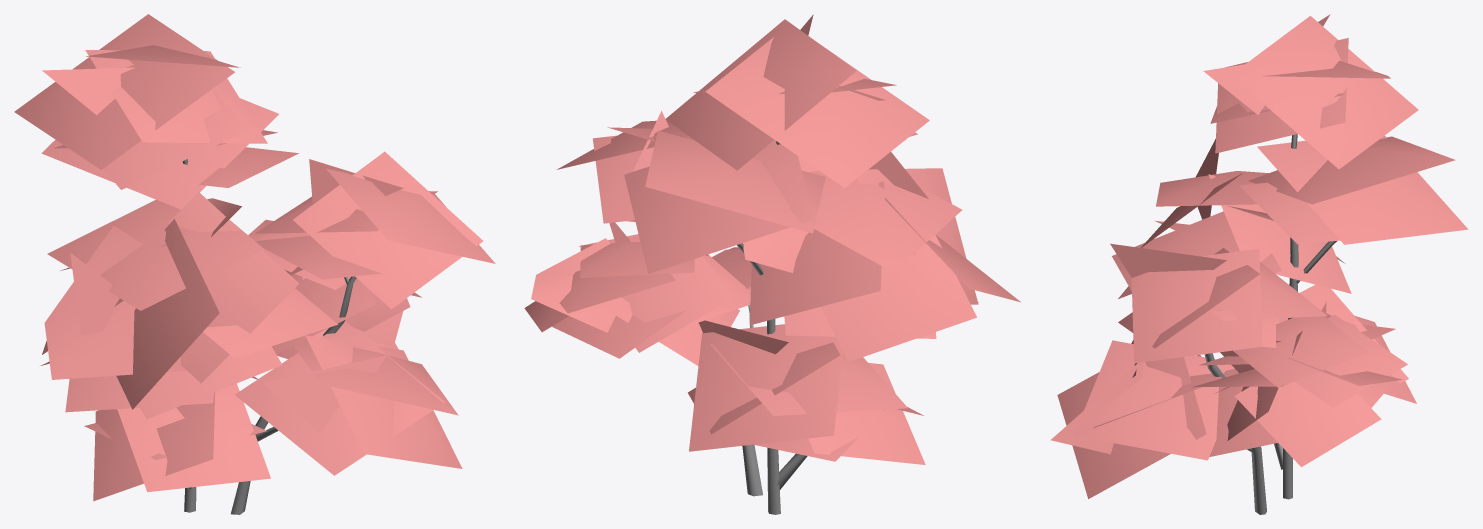
Rendered from S_Envi_Umeda_shrubA_01d.gltf.
3 renders of one model, left to right at view 1: azimuth 30°, elevation 25°; view 2: azimuth 150°, elevation 25°; view 3: azimuth 270°, elevation 25°, orthographic. The views are drawn at different scales.
Parts seen in each view (by area): view 1: S_Envi_Umeda_shrubA_01d; view 2: S_Envi_Umeda_shrubA_01d; view 3: S_Envi_Umeda_shrubA_01d.
Part boxes in pixels (box(x1,y1,x2,y2)): S_Envi_Umeda_shrubA_01d: box(14, 14, 495, 514); S_Envi_Umeda_shrubA_01d: box(524, 14, 1020, 514); S_Envi_Umeda_shrubA_01d: box(1050, 14, 1468, 514).
Size of the model in its own units: 1.95 by 2.02 by 1.75.
